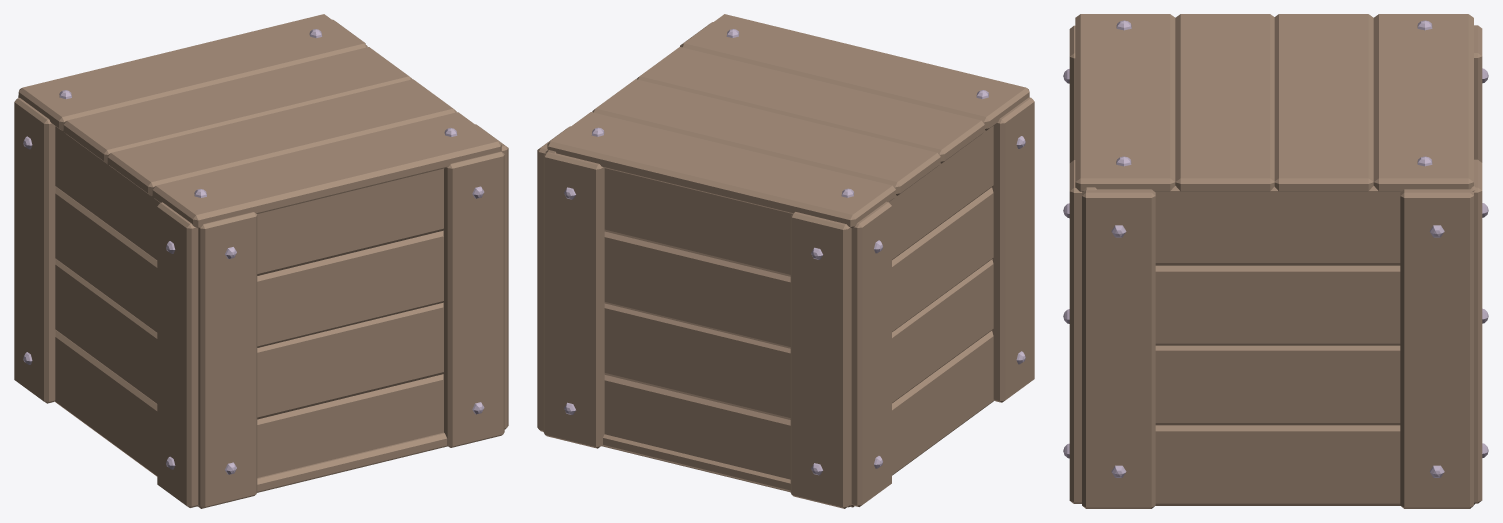
The model's file is krat.fbx.
The picture shows the model from 3 angles, left to right: view 1: azimuth 30°, elevation 25°; view 2: azimuth 150°, elevation 25°; view 3: azimuth 270°, elevation 25°; orthographic projection. The views are drawn at different scales.
Visible parts, largest first — view 1: polySurface293; view 2: polySurface293; view 3: polySurface293.
Part boxes in pixels (bbox=[...]): polySurface293: bbox=[14, 14, 508, 508]; polySurface293: bbox=[537, 14, 1034, 508]; polySurface293: bbox=[1063, 14, 1488, 508].
Bounding box in the file's own units: 3.2 × 2.75 × 3.17.
